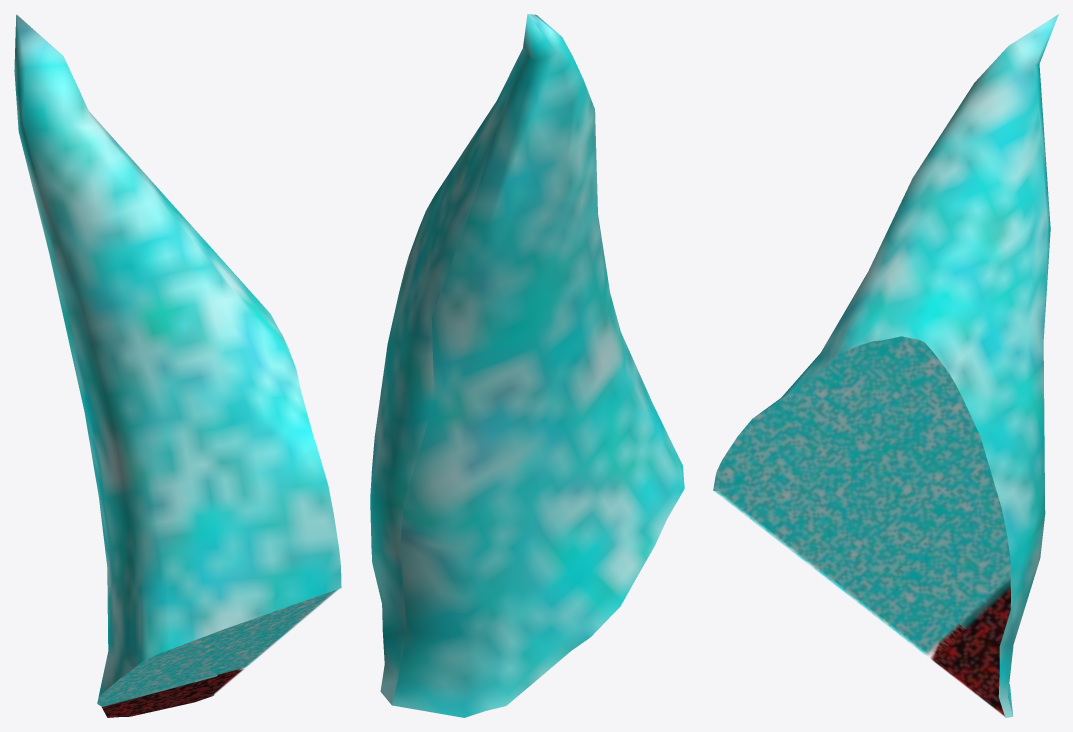
The picture shows the model from 3 angles, left to right: view 1: azimuth 30°, elevation 25°; view 2: azimuth 150°, elevation 25°; view 3: azimuth 270°, elevation 25°; orthographic projection. The views are drawn at different scales.
Visible parts, largest first — view 1: SM_VFX_Withered_Spike_11_LOD0; view 2: SM_VFX_Withered_Spike_11_LOD0; view 3: SM_VFX_Withered_Spike_11_LOD0.
Boxes of the visible parts, left/top/right/bottom form: SM_VFX_Withered_Spike_11_LOD0: left=14, top=14, right=341, bottom=717; SM_VFX_Withered_Spike_11_LOD0: left=370, top=14, right=684, bottom=717; SM_VFX_Withered_Spike_11_LOD0: left=713, top=14, right=1058, bottom=717.
Bounding box in the file's own units: 1.12 × 3.82 × 1.88.
Materials: 1 (1 with a texture image).
